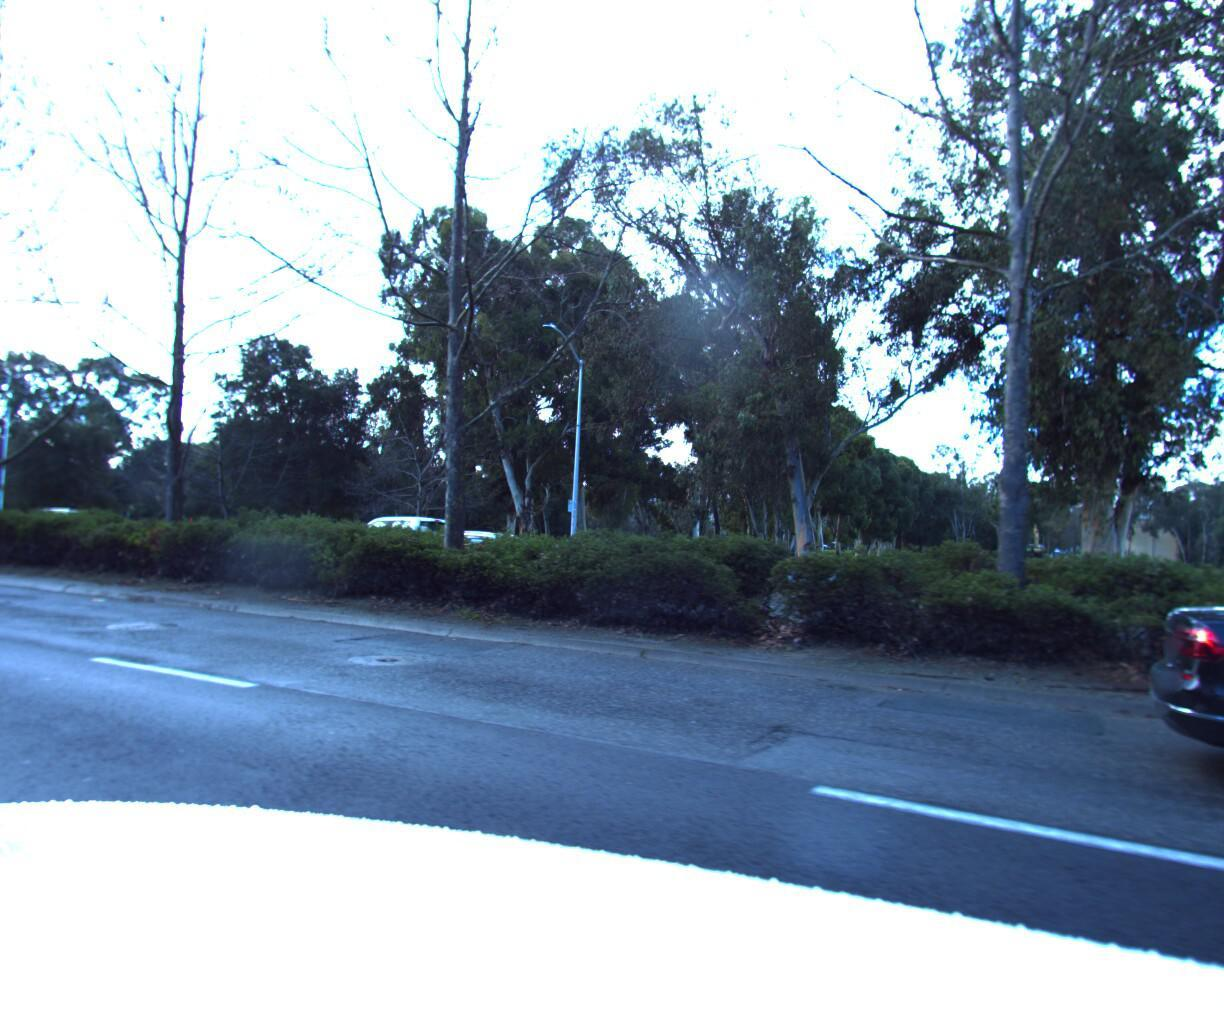car: (1101, 553, 1224, 1024), (349, 517, 519, 587)
